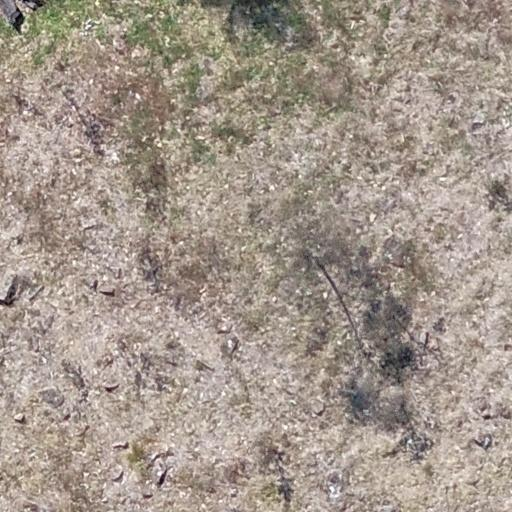stone: (0, 268, 20, 303), (36, 387, 68, 407), (152, 457, 168, 486), (309, 396, 327, 414), (110, 463, 125, 480), (216, 320, 233, 333), (100, 286, 118, 297), (81, 277, 97, 289), (226, 340, 238, 356), (103, 380, 120, 390), (418, 329, 428, 345), (14, 410, 26, 422), (60, 406, 70, 420), (112, 440, 128, 448)
